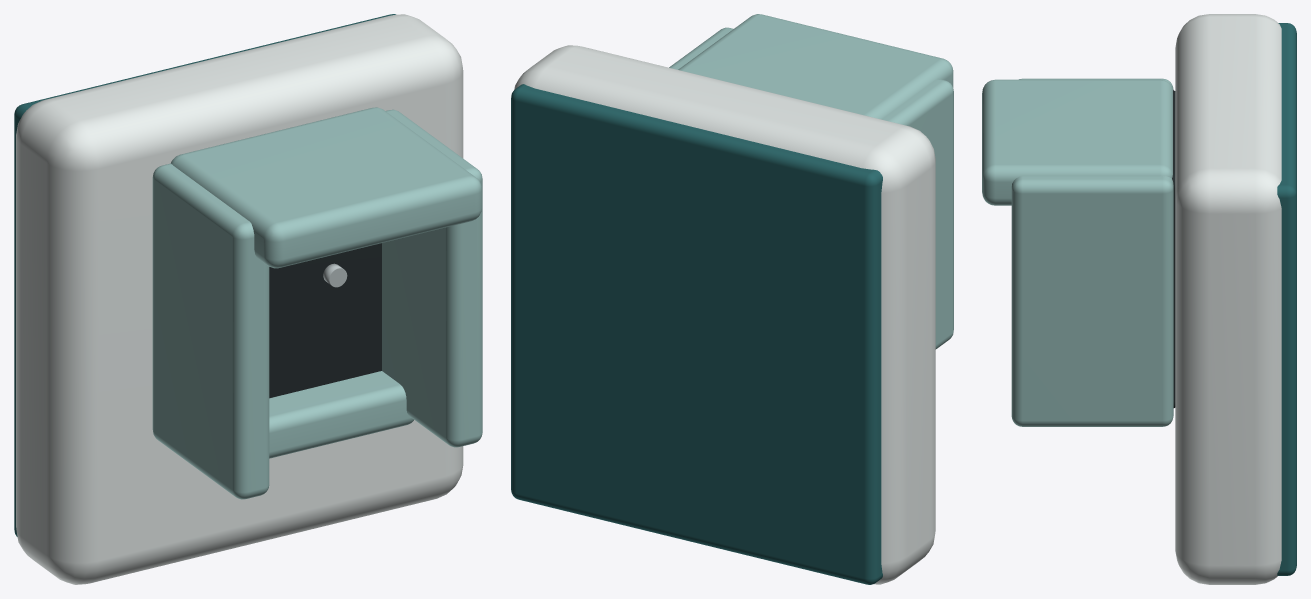
3 views of the same model, side by side, from view 1: azimuth 30°, elevation 25°; view 2: azimuth 150°, elevation 25°; view 3: azimuth 270°, elevation 25° (orthographic). The views are drawn at different scales.
Visible parts, largest first — view 1: dock_base, cradle_side.001, cradle_back, cradle_side, handle_support_floor, cradle_front_stop, dock_trim; view 2: dock_trim, dock_base, cradle_back, cradle_side.001; view 3: dock_base, cradle_side, cradle_back, dock_trim, handle_support_floor.
Boxes of the visible parts, x1=… form: dock_base: x1=16, y1=14, x2=463, y2=584; cradle_side.001: x1=152, y1=163, x2=269, y2=499; cradle_back: x1=171, y1=107, x2=481, y2=268; cradle_side: x1=382, y1=109, x2=482, y2=447; handle_support_floor: x1=269, y1=243, x2=381, y2=398; cradle_front_stop: x1=269, y1=371, x2=413, y2=458; dock_trim: x1=14, y1=14, x2=395, y2=536; dock_trim: x1=511, y1=84, x2=882, y2=584; dock_base: x1=514, y1=45, x2=935, y2=584; cradle_back: x1=678, y1=14, x2=953, y2=119; cradle_side.001: x1=881, y1=79, x2=953, y2=349; dock_base: x1=1175, y1=14, x2=1281, y2=584; cradle_side: x1=1011, y1=176, x2=1173, y2=426; cradle_back: x1=982, y1=79, x2=1172, y2=205; dock_trim: x1=1277, y1=23, x2=1296, y2=575; handle_support_floor: x1=1172, y1=90, x2=1175, y2=407.
Size of the model in its own units: 0.116 by 0.125 by 0.0855.
